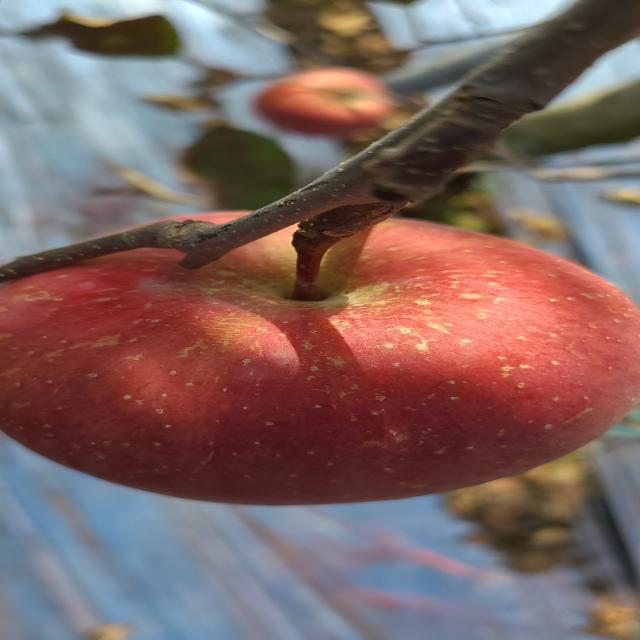fresh: (1, 199, 640, 520)
